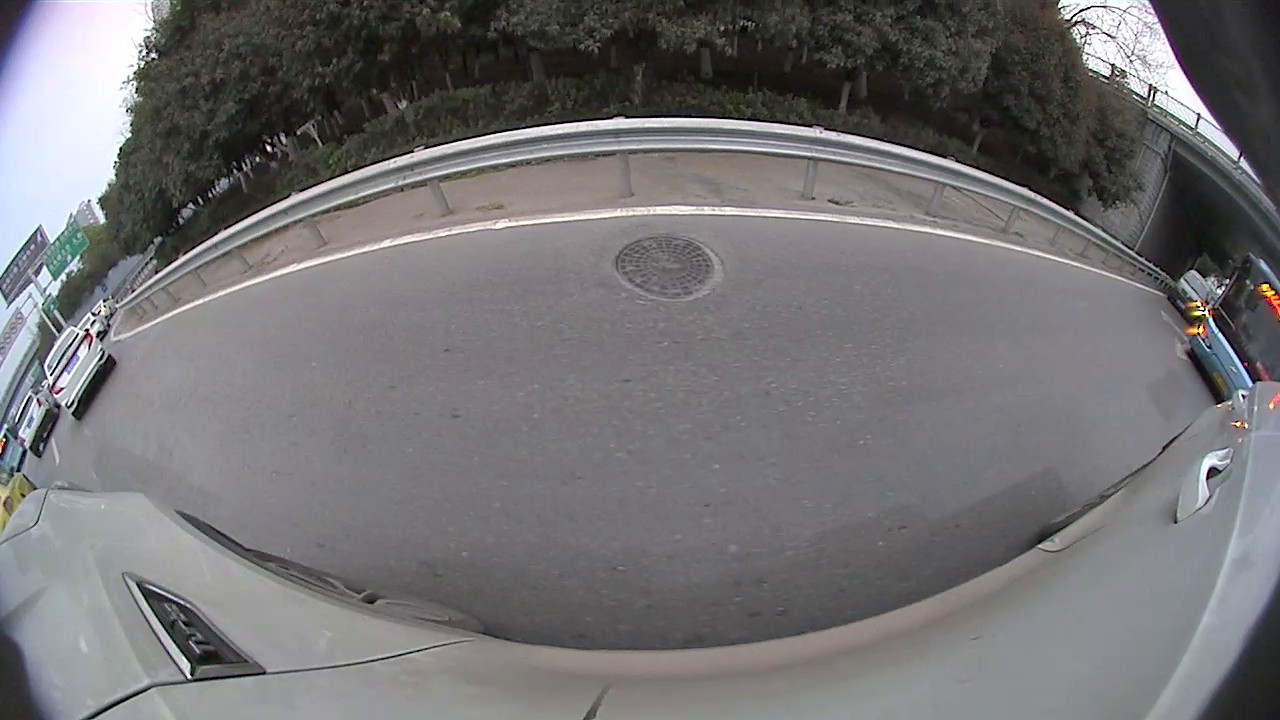bus: (20, 1, 731, 331)
car: (1052, 196, 1122, 286), (1125, 287, 1179, 350)
front: (229, 179, 354, 308)
rear: (75, 284, 115, 329), (1081, 257, 1097, 275)
